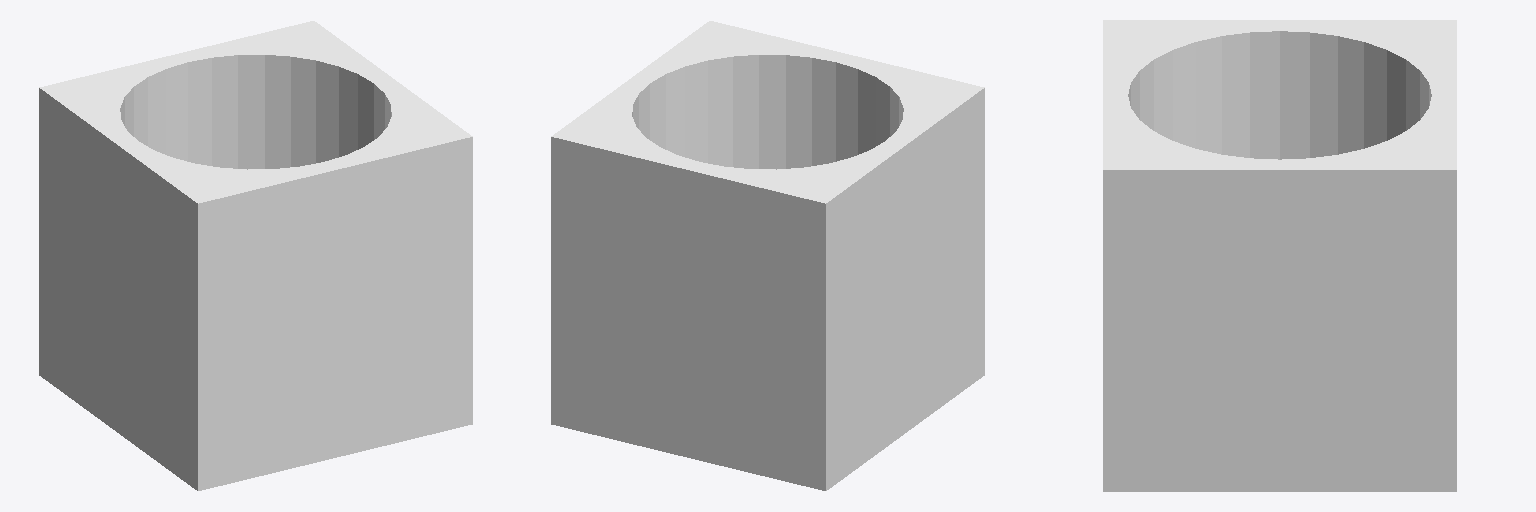
robot.urdf — cube_with_cylinder_hole:
<?xml version="1.0" ?>
<robot name="cube_with_cylinder_hole">
  <link name="_name">
  
    <visual>
      <origin rpy="0 0 0" xyz="0 0 0" />
      <geometry>
        <mesh filename="textured.obj" scale="1 1 1" />
      </geometry>
      <material name="white">
        <color rgba="1.0 1.0 1.0 1.0" />
      </material>
    </visual>
    
    <collision>
      <origin rpy="0 0 0" xyz="0 0 0" />
      <geometry>
        <mesh filename="textured.obj" scale="1 1 1" />
      </geometry>
    </collision>
    
    <inertial>
      <origin rpy="0 0 0" xyz="0.0 0.0 0.0" />
      <mass value="0.094" />
      <inertia ixx="1.0" ixy="0.0" ixz="0.0" iyy="1.0" iyz="0.0" izz="1.0" />
    </inertial>
    
  </link>
</robot>

--- What the picture shows (computed from the rendered views, not written in the file) ---
3 views of the same robot in one strip: view 1: azimuth 30°, elevation 25°; view 2: azimuth 150°, elevation 25°; view 3: azimuth 270°, elevation 25° (orthographic).
Robot: cube_with_cylinder_hole — 1 links, 0 joints (none); root link _name; default pose: every joint at zero.
Visible links, largest first — view 1: _name; view 2: _name; view 3: _name.
Link boxes in pixels (left/top/right/bottom): _name: left=39, top=21, right=472, bottom=490; _name: left=551, top=21, right=984, bottom=490; _name: left=1103, top=20, right=1456, bottom=491.
Bounding box of the posed robot: 0.08 × 0.08 × 0.08 m (x, y, z).
1 mesh visuals loaded from 1 distinct referenced files (1 OBJ).
